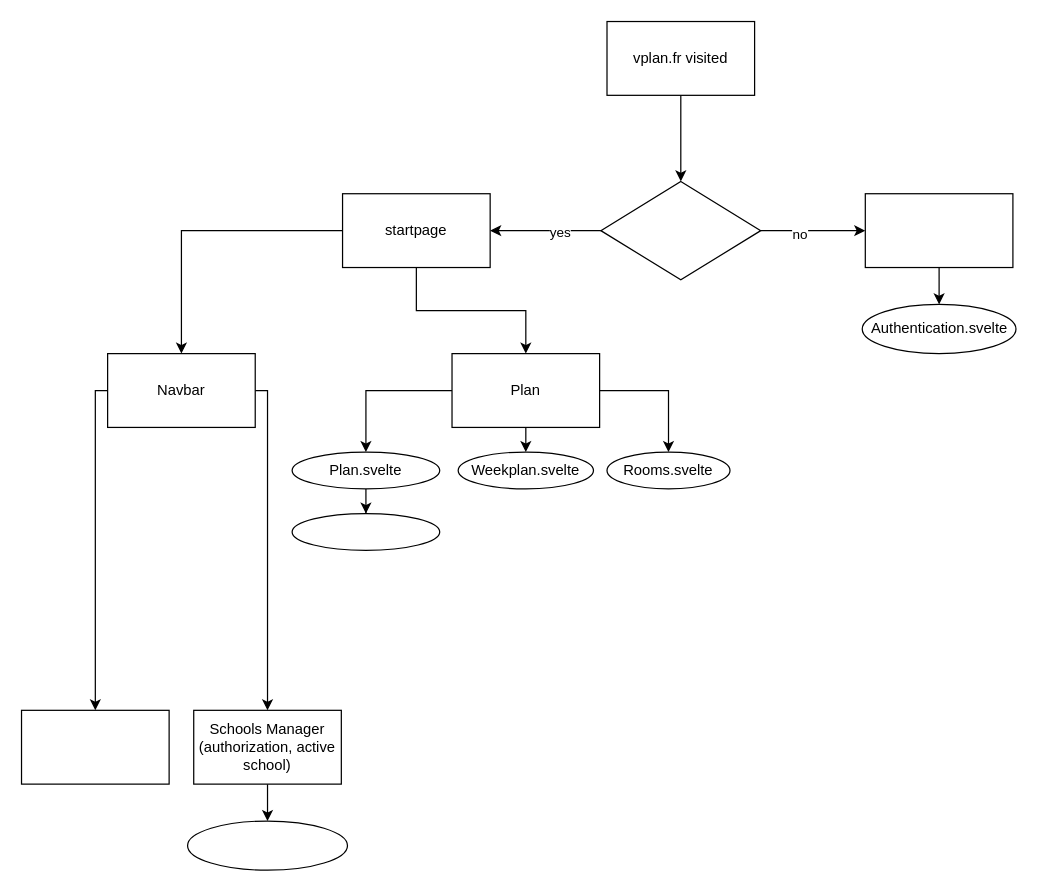
The diagram is 1038 pixels wide and 892 high, and some of its shapes have lost their labels. The centre of each missing label's shape, as x and y in pixels:
Lesson.svelte: pixel 365 531
login/signup-page: pixel 938 230
Logout-Button: pixel 94 746
SchoolManager.svelte: pixel 266 845
user logged in?: pixel 680 230
